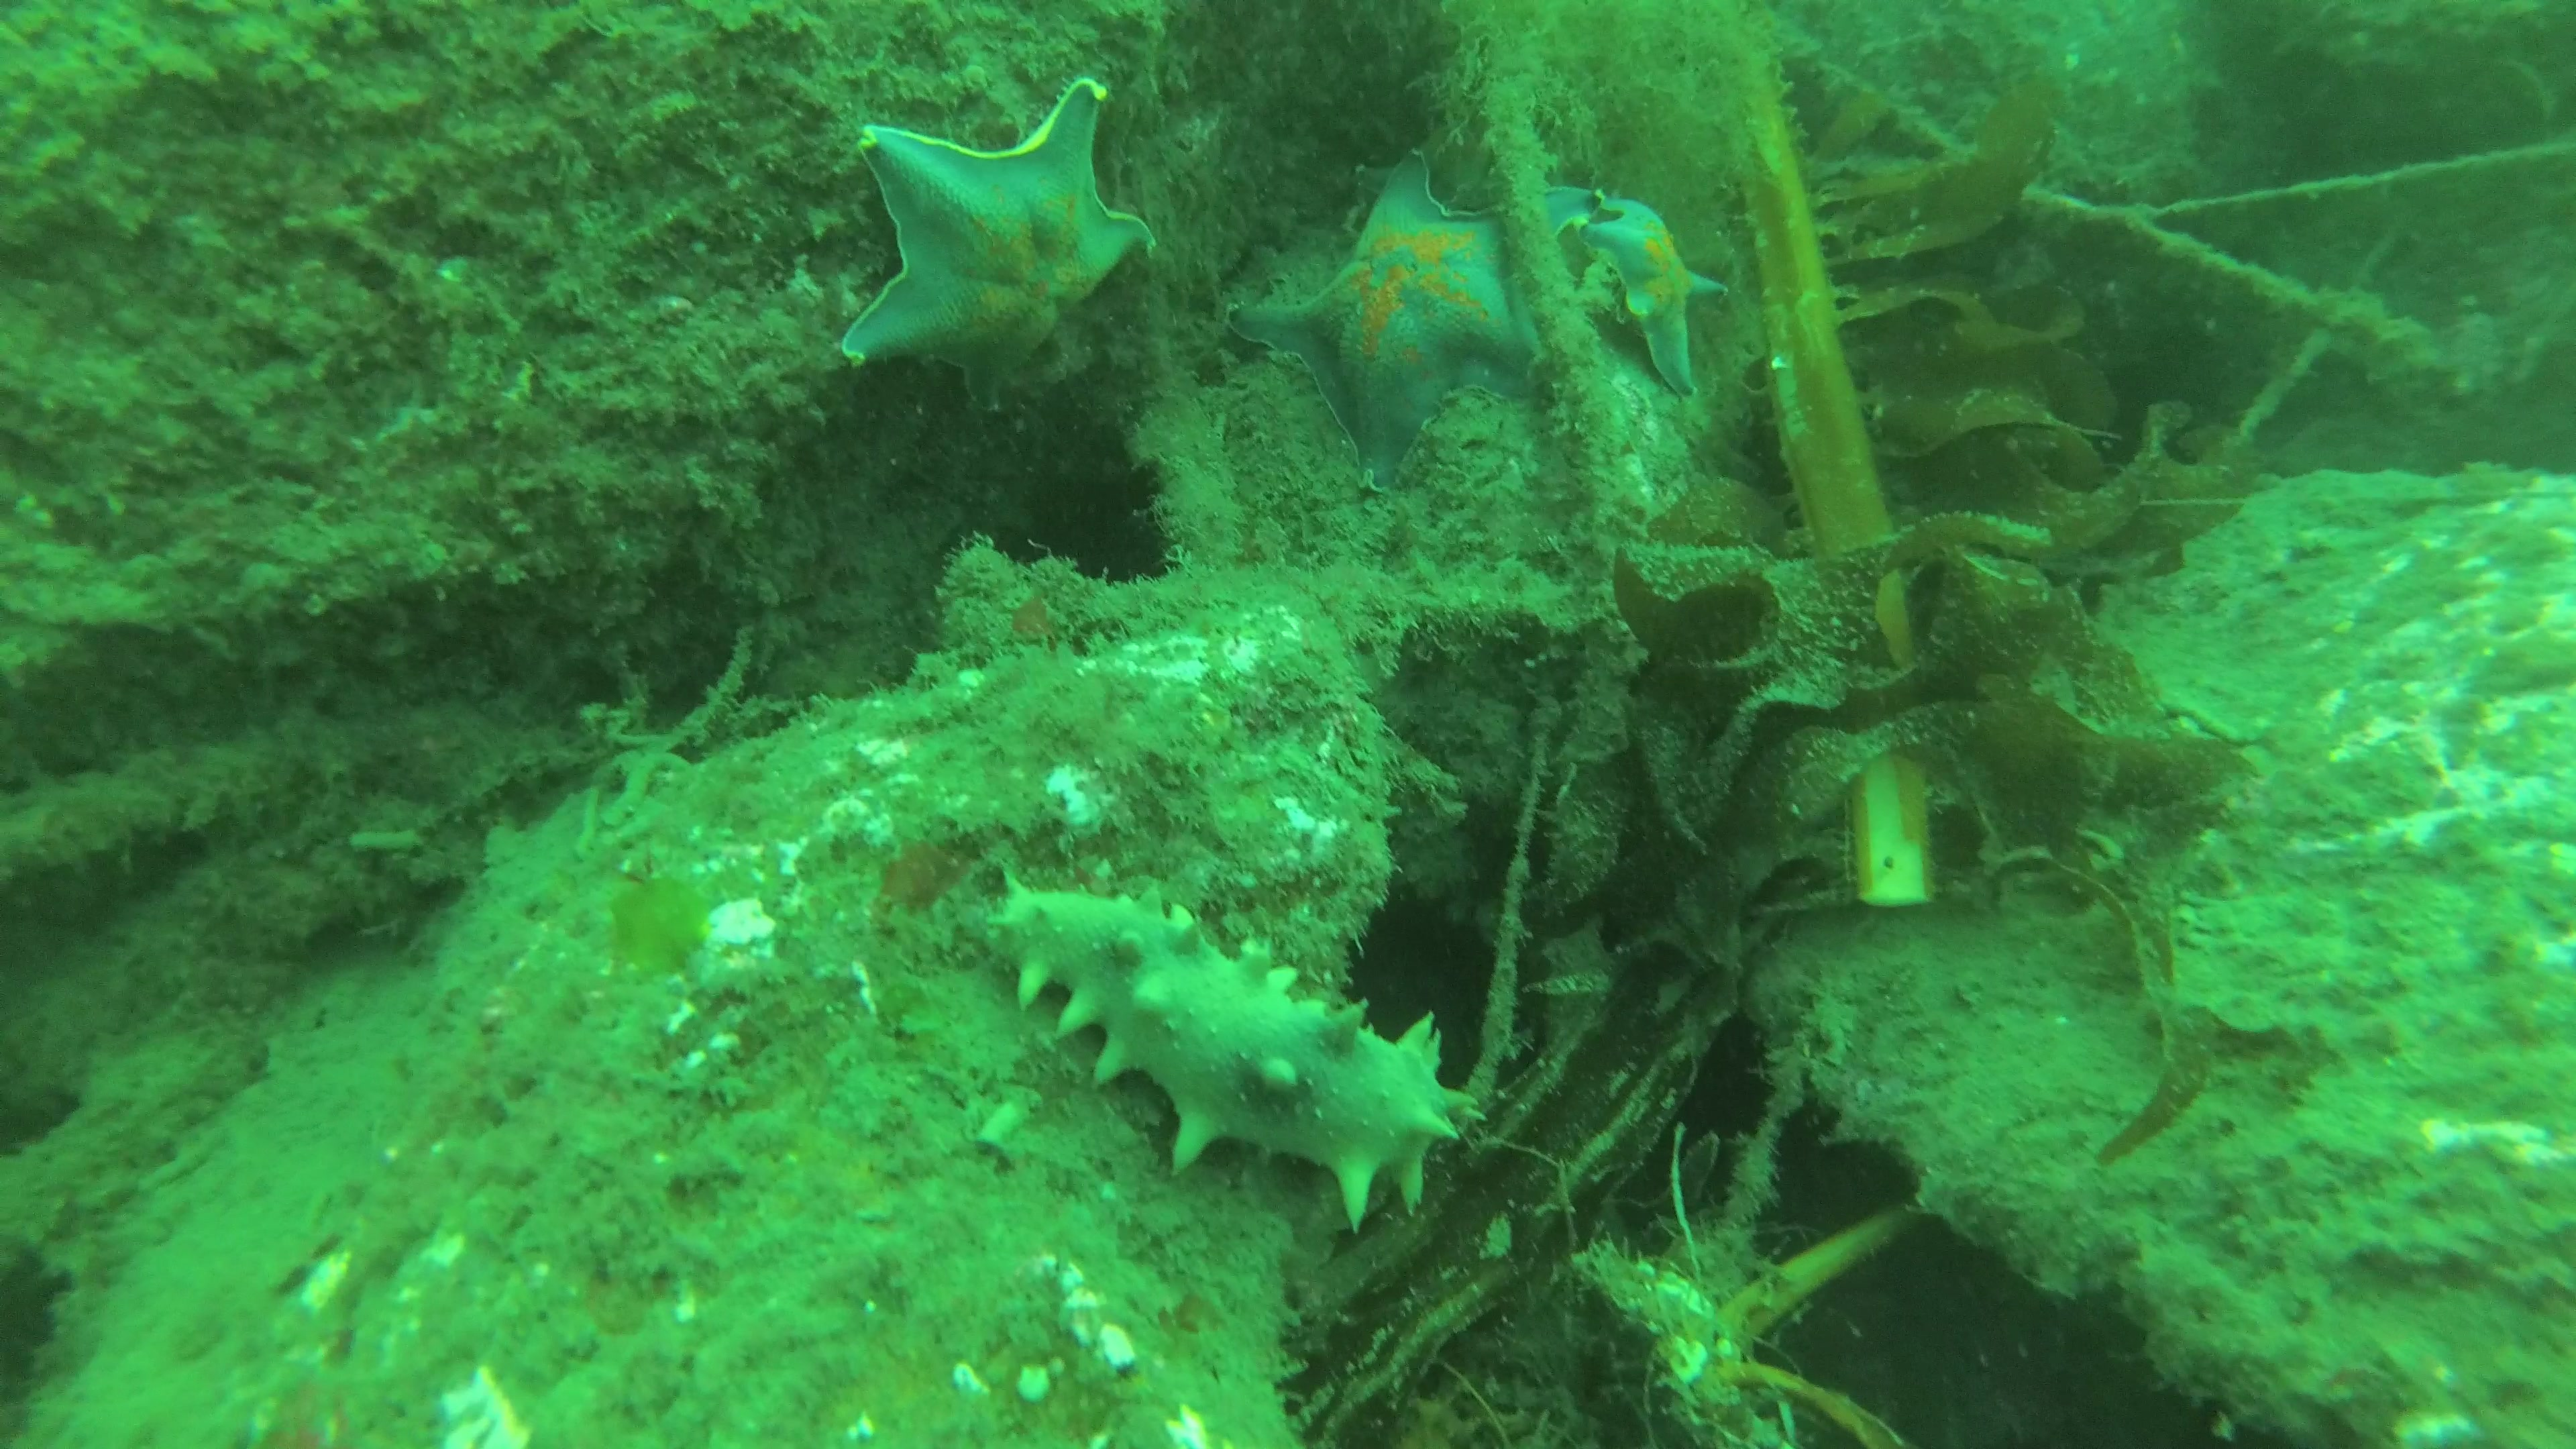holothurian: (982, 855, 1493, 1242)
starfish: (1219, 142, 1605, 499), (839, 76, 1154, 426), (1578, 172, 1737, 412)
